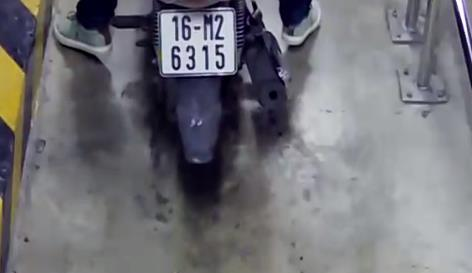lisence: (158, 10, 239, 75)
